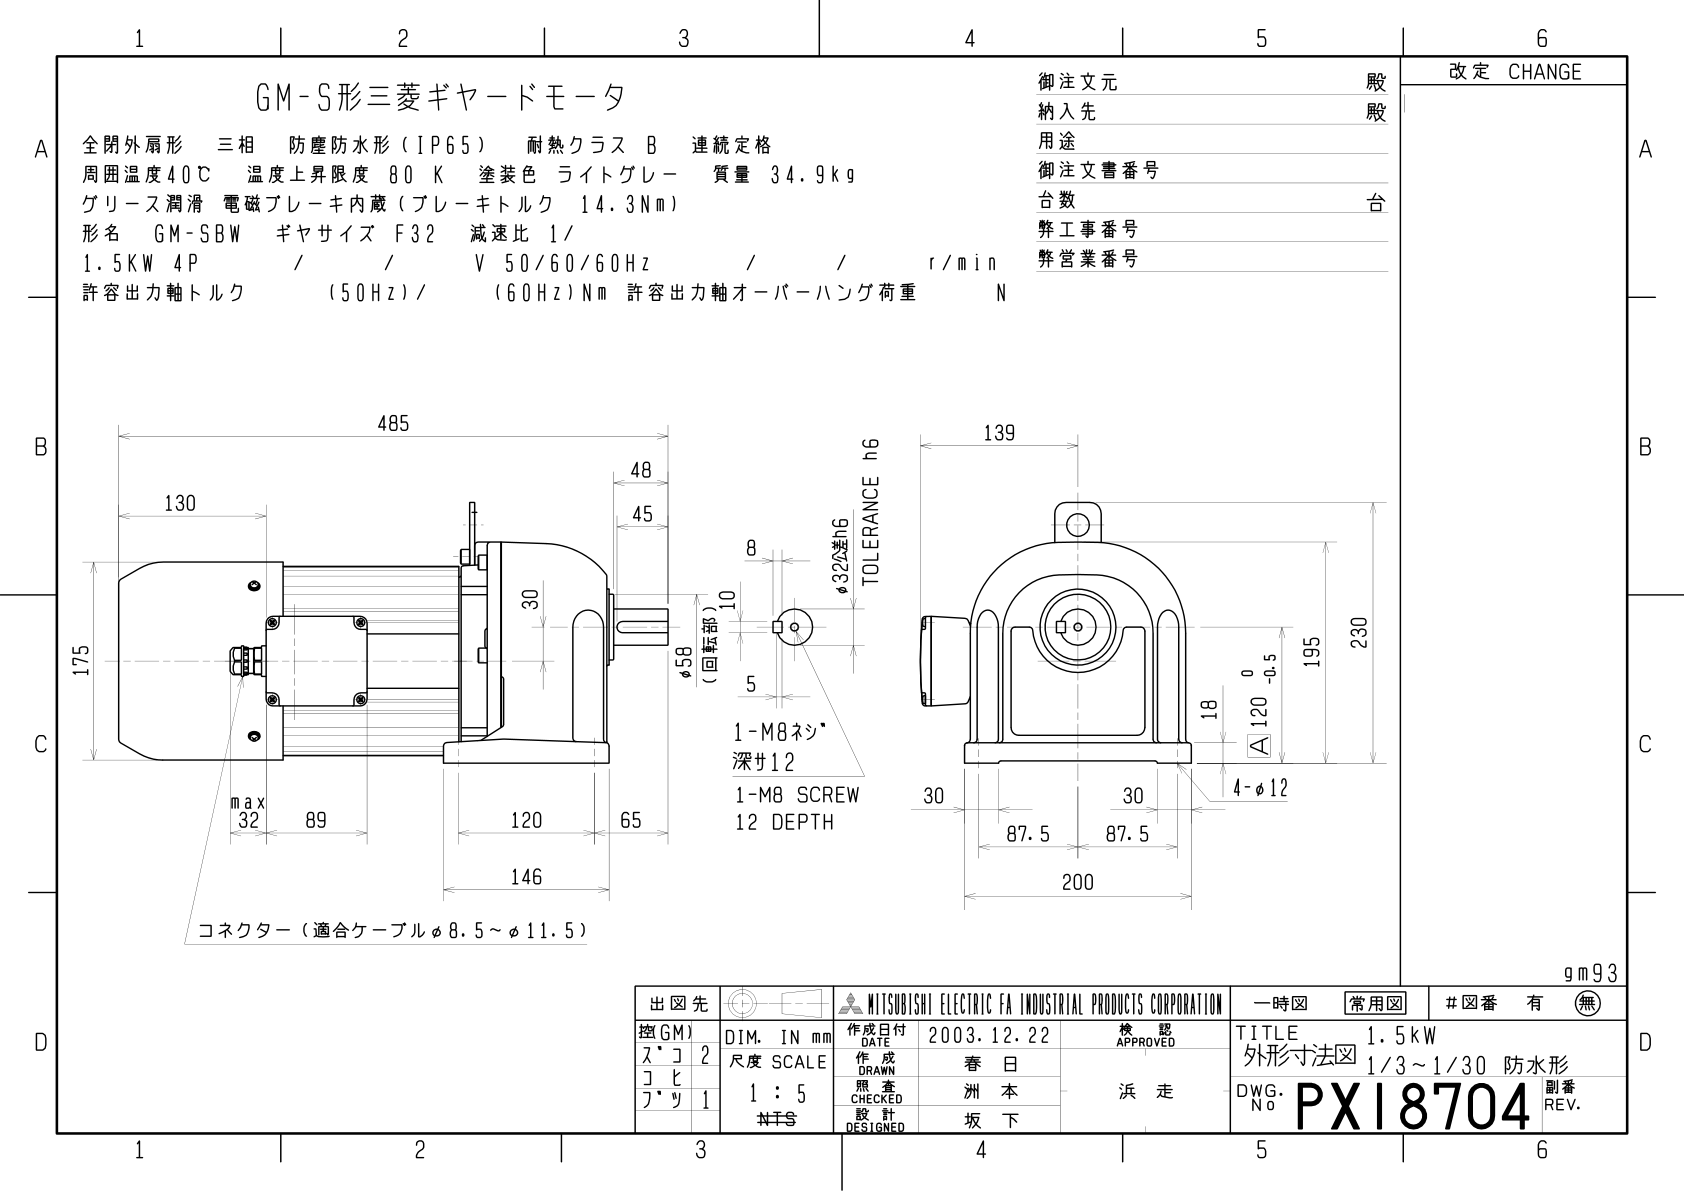GM_S_IP65＿三相_脚: (9, 6, 1674, 1191)
